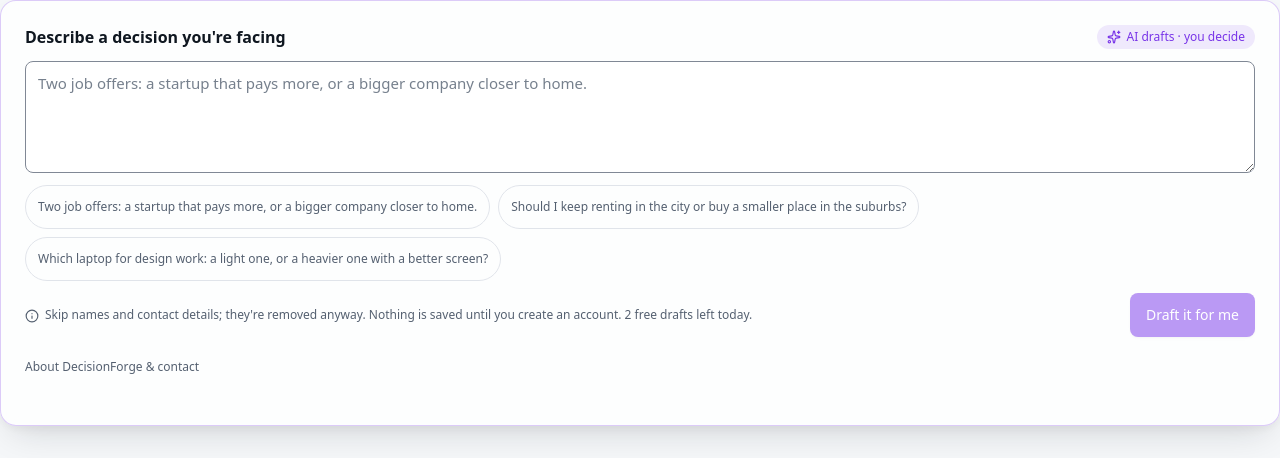
Test: HomeDrafter › needs a real description and says nothing is saved
This screenshot has width=1280, height=458.
Expected: the button "Draft it for me" is disabled, [1130,293,1255,337]
Expected: the text "Nothing is saved until you create an account" is shown, [45,306,622,323]
Click the button "startup that pays more" at (258, 207), box [25,185,490,229]
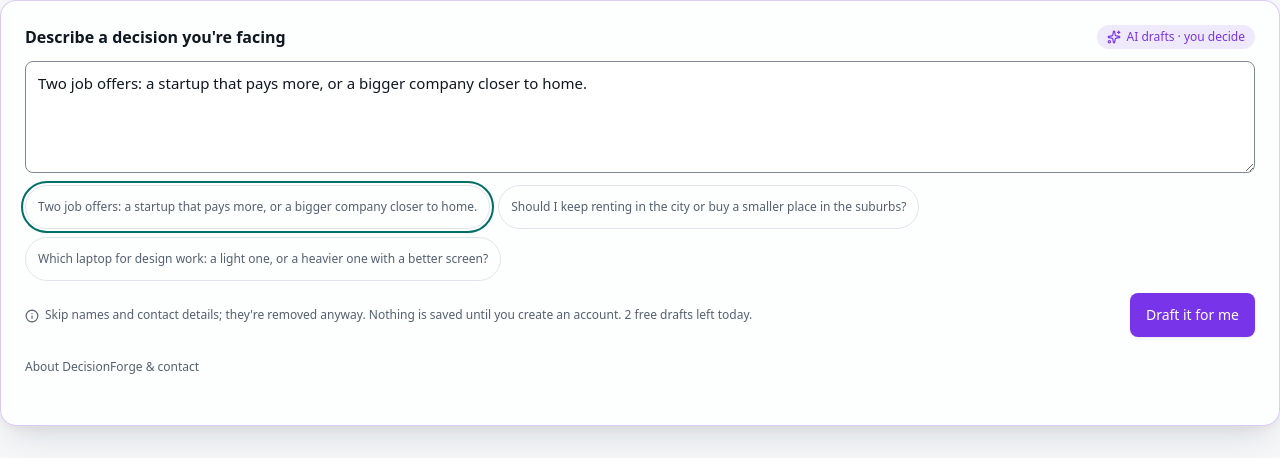
Now the button "Draft it for me" is enabled, box [1130,293,1255,337]
